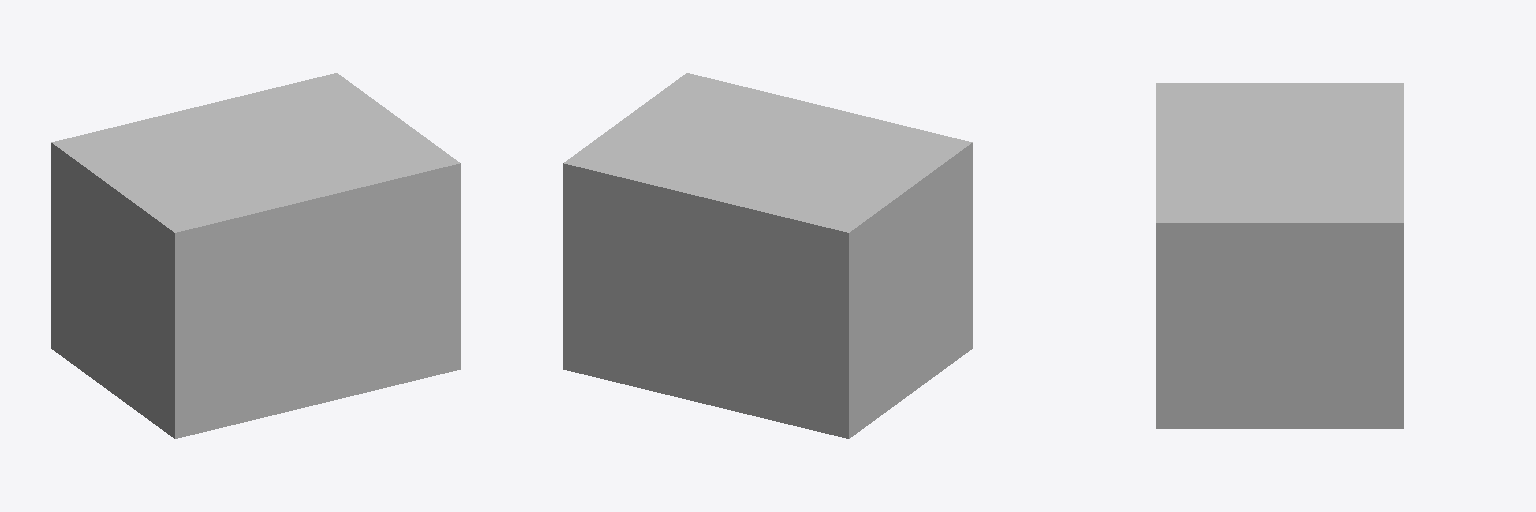
File: mask.obj
3 renders of one model, left to right at view 1: azimuth 30°, elevation 25°; view 2: azimuth 150°, elevation 25°; view 3: azimuth 270°, elevation 25°, orthographic.
Parts seen in each view (by area): view 1: mask; view 2: mask; view 3: mask.
Part boxes in pixels (left/top/right/bottom): mask: left=51, top=73, right=460, bottom=438; mask: left=563, top=73, right=972, bottom=438; mask: left=1156, top=83, right=1403, bottom=428.
Size of the model in its own units: 3.3 by 2.28 by 2.47.